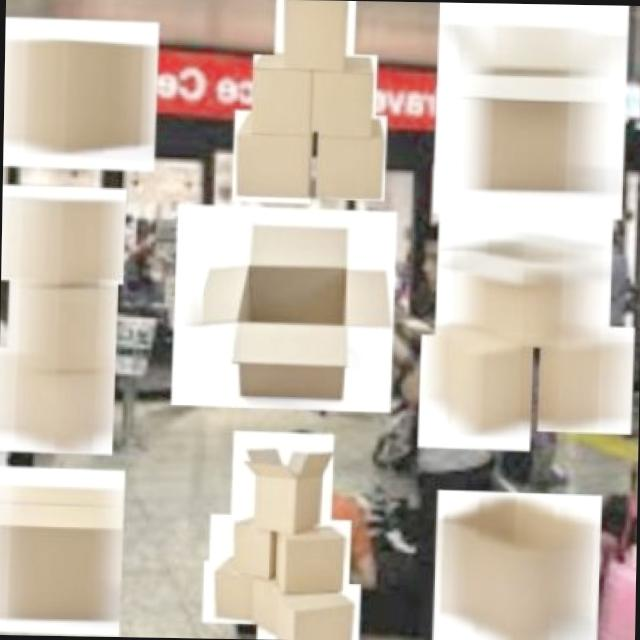box: (165, 200, 402, 416), (429, 2, 632, 221), (430, 200, 617, 352), (430, 486, 605, 640), (2, 15, 162, 174), (0, 461, 126, 636), (415, 331, 536, 452), (5, 260, 120, 384), (0, 182, 130, 286), (0, 344, 117, 455), (228, 428, 336, 542), (534, 322, 636, 436), (230, 106, 314, 205), (314, 111, 389, 203), (254, 578, 362, 640), (268, 516, 352, 593), (272, 0, 357, 72), (312, 51, 378, 136), (200, 558, 276, 626), (207, 512, 284, 579), (250, 52, 316, 128)
